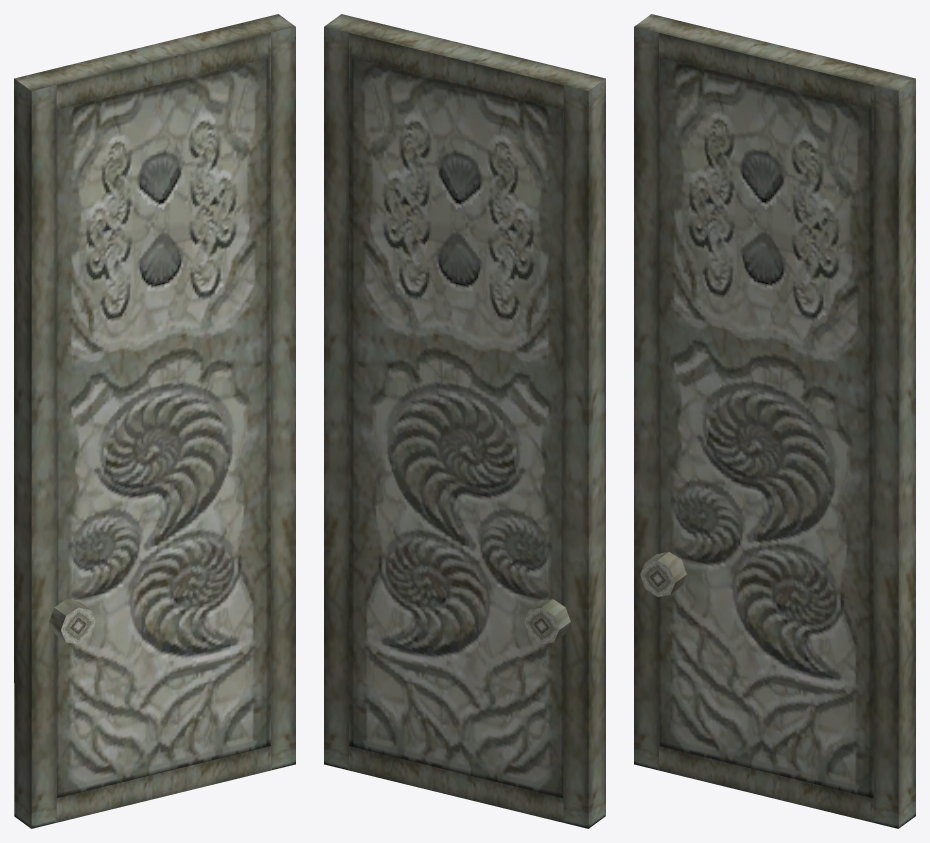
File: door-knob_00.dae
3 renders of one model, left to right at view 1: azimuth 30°, elevation 25°; view 2: azimuth 150°, elevation 25°; view 3: azimuth 330°, elevation 25°, orthographic.
Visible parts, largest first — view 1: Shape 0; view 2: Shape 0; view 3: Shape 0.
Boxes of the visible parts, box(x1,y1,x2,y2) form: Shape 0: box(14, 14, 295, 828); Shape 0: box(324, 14, 605, 828); Shape 0: box(634, 14, 915, 828).
Bounding box in the file's own units: 150 × 400 × 40.
1 material, 1 textured.
